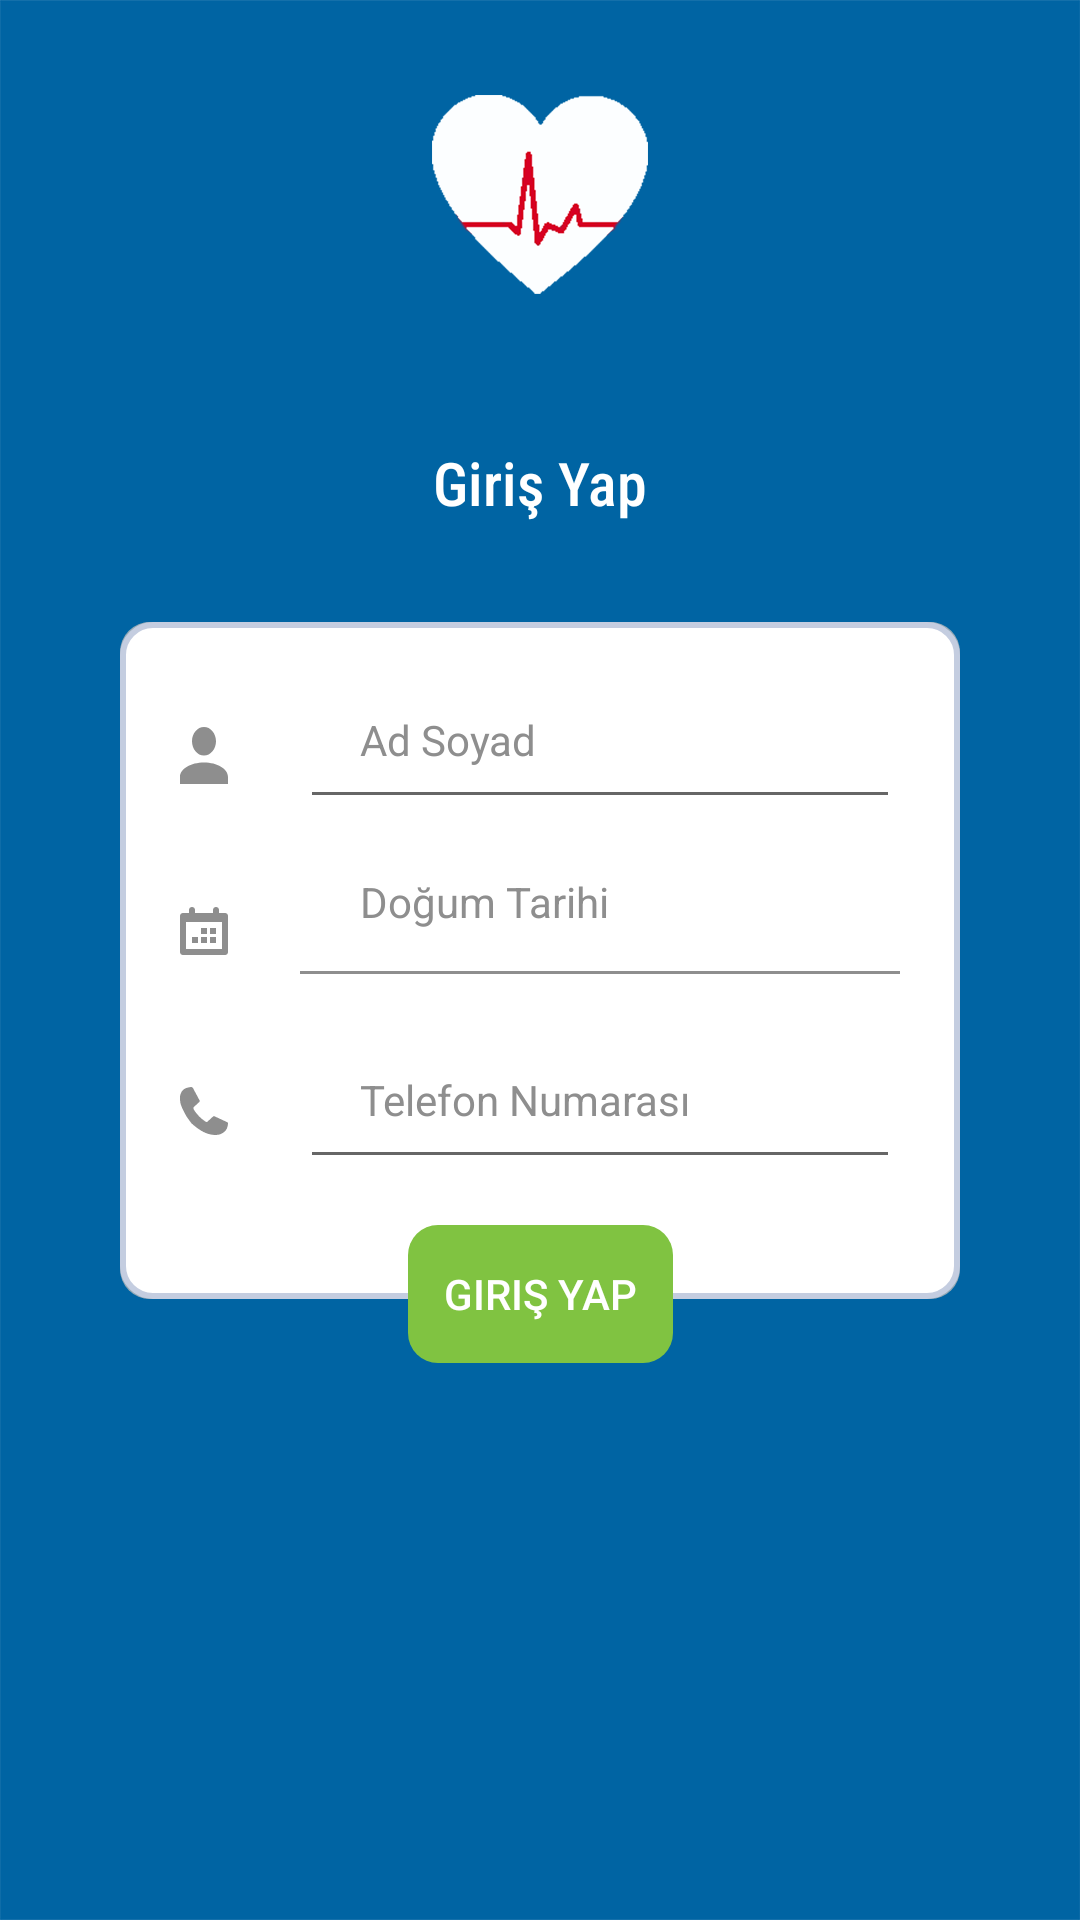

Screen size 1080 x 1920. Icon name, then its center in pixels as [x,y]:
calendar: [204,931]
phone: [204,1111]
